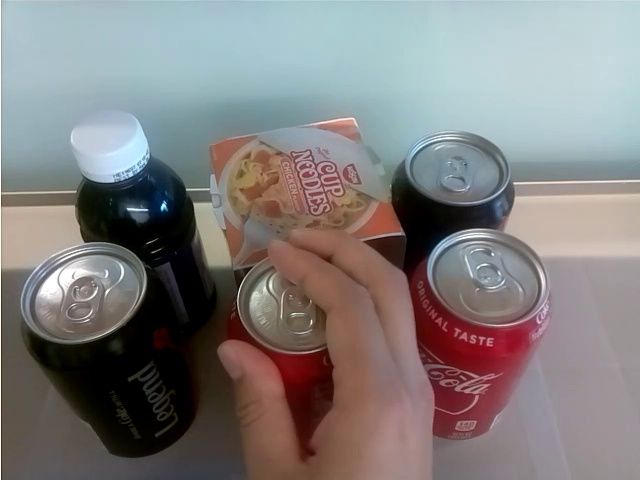cocacola: (20, 236, 203, 460), (407, 227, 553, 443), (223, 257, 335, 449), (393, 130, 517, 234)
hand: (218, 225, 437, 480)
juice: (68, 108, 212, 347)
noodles: (200, 117, 404, 266)
